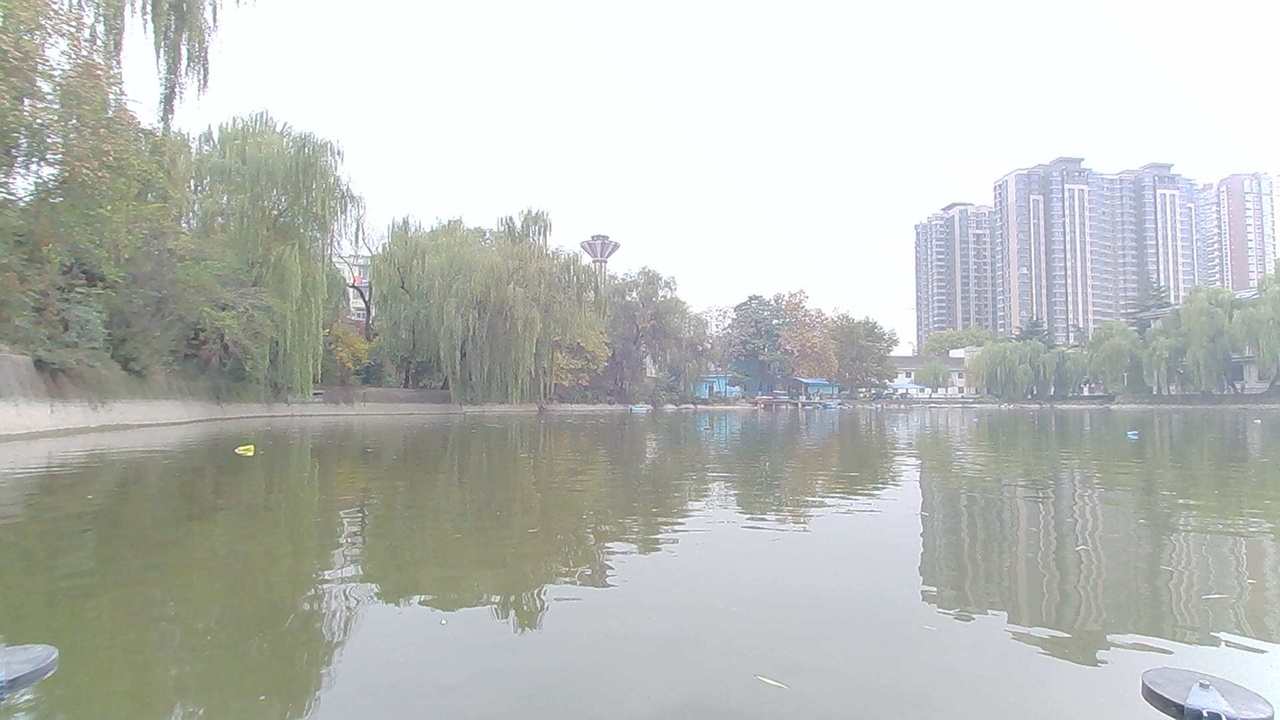bottle: (232, 437, 266, 460), (1121, 422, 1152, 445), (693, 418, 722, 433)
